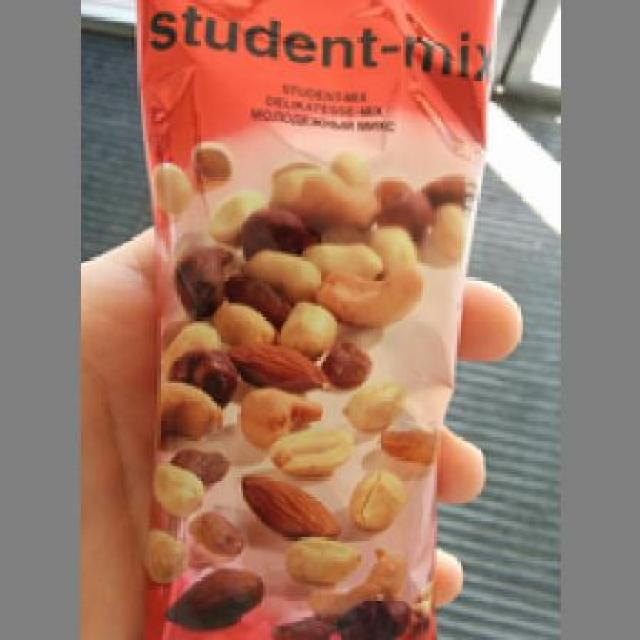Nuts: (130, 0, 503, 637)
